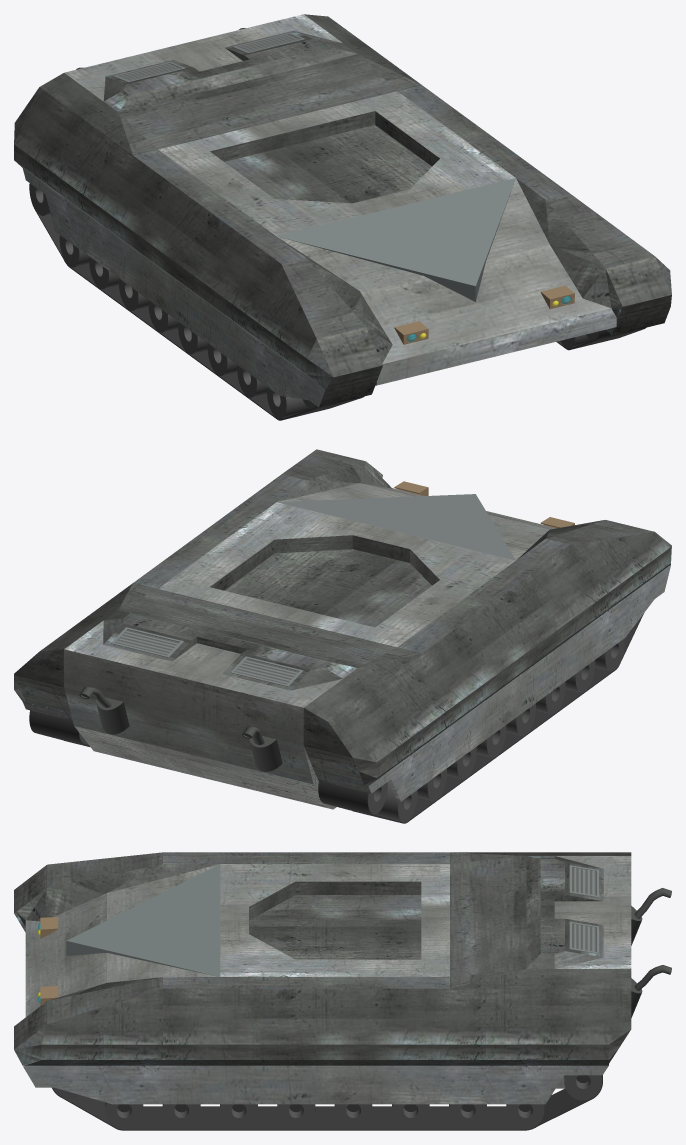
File: 战锤坦克【载具】贴图版.fbx
The picture shows the model from 3 angles, top to bottom: view 1: azimuth 30°, elevation 25°; view 2: azimuth 150°, elevation 25°; view 3: azimuth 270°, elevation 25°; orthographic projection. The views are drawn at different scales.
Visible parts, largest first — view 1: Group2, Group24, Group10, Group28, Group26, Group3, Group4; view 2: Group2, Group24, Group10, Group28, Group4, Group3, Group14, Group36, Group38, Group42, Group33, Group30 (+5 smaller); view 3: Group10, Group2, Group24, Group14, Group12, Group4, Group3, Group16, Group19, Group18, Group22, Group17 (+3 smaller).
Part boxes in pixels (x1,y1,x2,y2): Group2: [64, 14, 616, 385]; Group24: [14, 73, 392, 407]; Group10: [304, 14, 671, 335]; Group28: [29, 183, 364, 420]; Group26: [267, 387, 311, 419]; Group3: [232, 32, 304, 53]; Group4: [113, 62, 185, 82]; Group2: [64, 483, 555, 809]; Group24: [303, 520, 671, 807]; Group10: [14, 449, 391, 720]; Group28: [318, 613, 643, 823]; Group4: [230, 656, 303, 686]; Group3: [111, 627, 183, 657]; Group14: [29, 710, 90, 747]; Group36: [375, 781, 417, 822]; Group38: [95, 697, 129, 734]; Group42: [249, 735, 282, 771]; Group33: [476, 725, 506, 757]; Group30: [565, 660, 595, 692]; Group10: [14, 969, 631, 1104]; Group2: [25, 856, 631, 1088]; Group24: [14, 852, 631, 932]; Group14: [52, 1075, 602, 1130]; Group12: [105, 1102, 143, 1129]; Group4: [569, 865, 598, 897]; Group3: [569, 921, 598, 953]; Group16: [162, 1104, 200, 1129]; Group19: [334, 1104, 372, 1129]; Group18: [277, 1104, 315, 1129]; Group22: [506, 1104, 544, 1129]; Group17: [220, 1104, 257, 1129].
Bounding box in the file's own units: 8.72 × 3.43 × 14.15.
